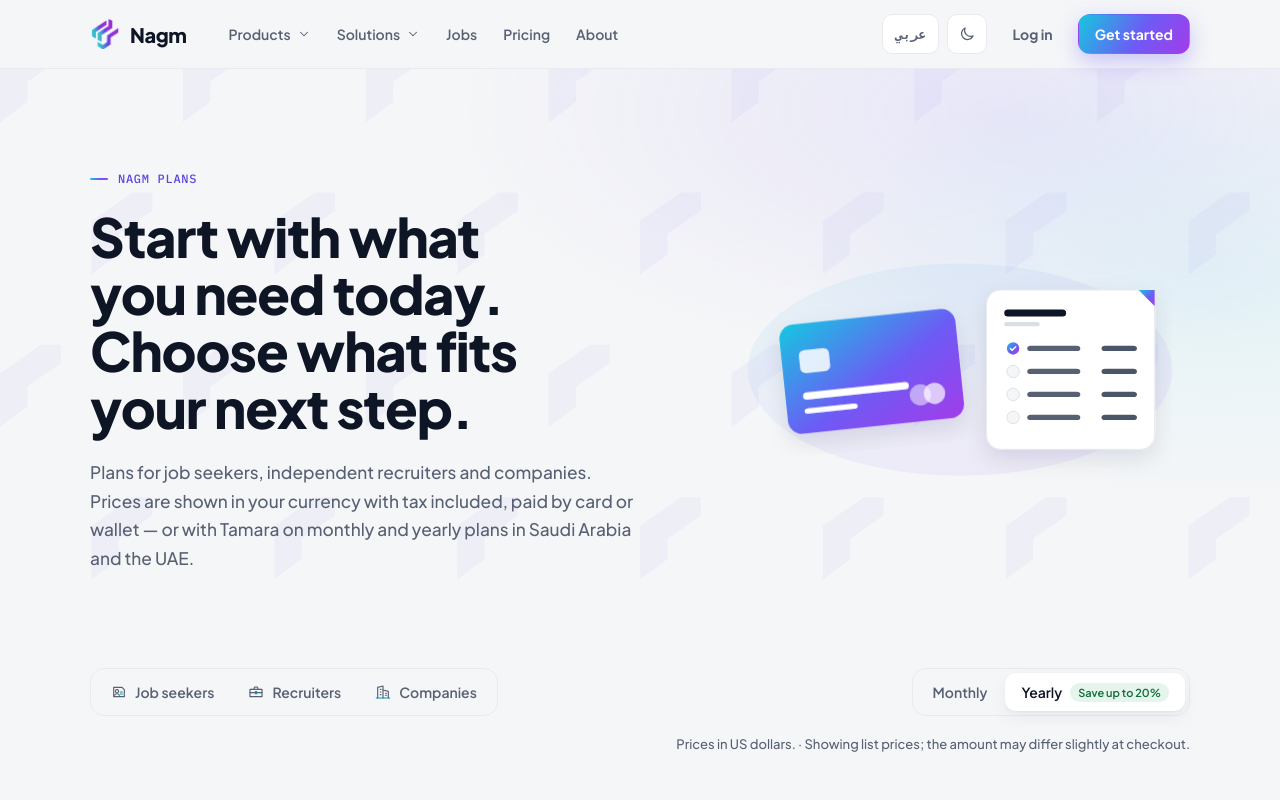
Test: pricing page › company cards lead with users, show the live promotion, and the comparison starts with Users
What coordinates should you click on to do the following:
click the button "Monthly"
I would click on:
 (960, 692)
Its box is [917, 673, 1004, 711].
(page scrolled)
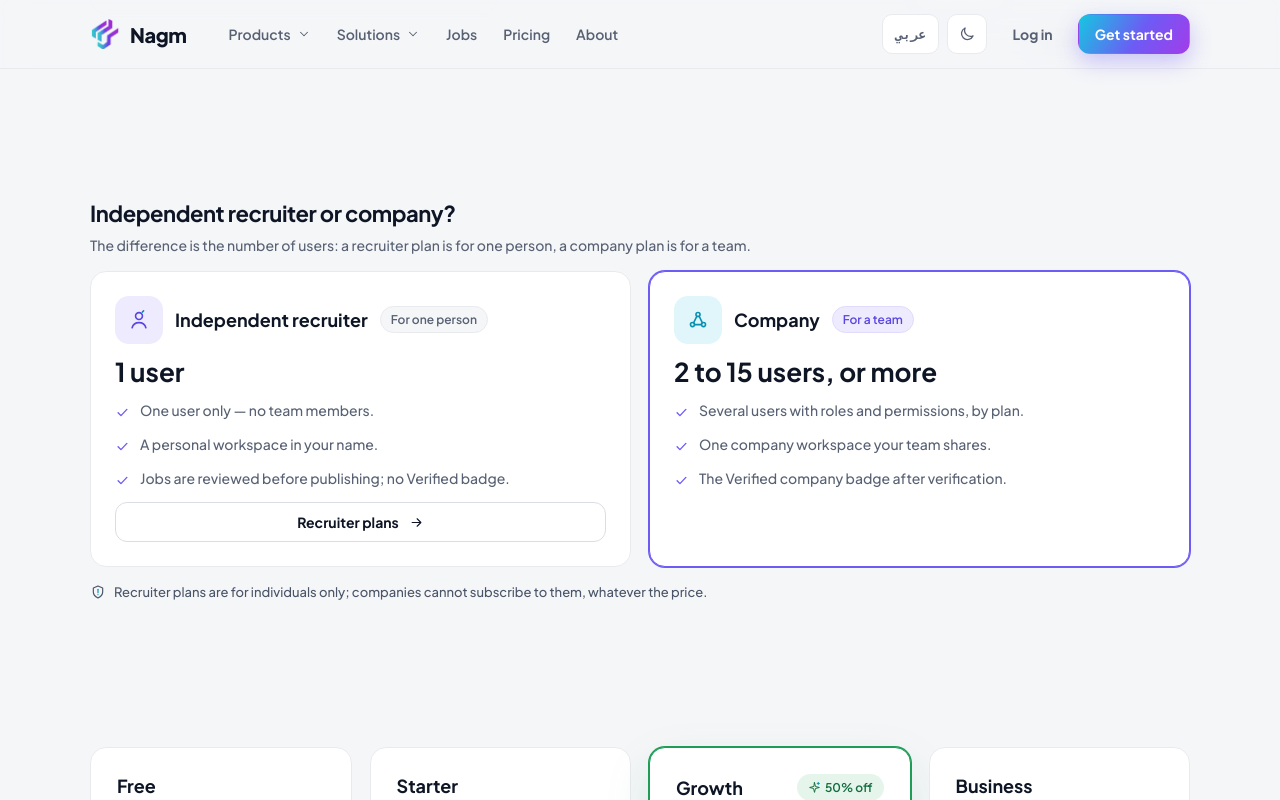
Expected: the element with test id "recruiter-or-company" shows "companies cannot subscribe to them", [114, 584, 707, 600]
Expected: the element with test id "plan-promo" reads "50% off", [825, 780, 872, 795]
